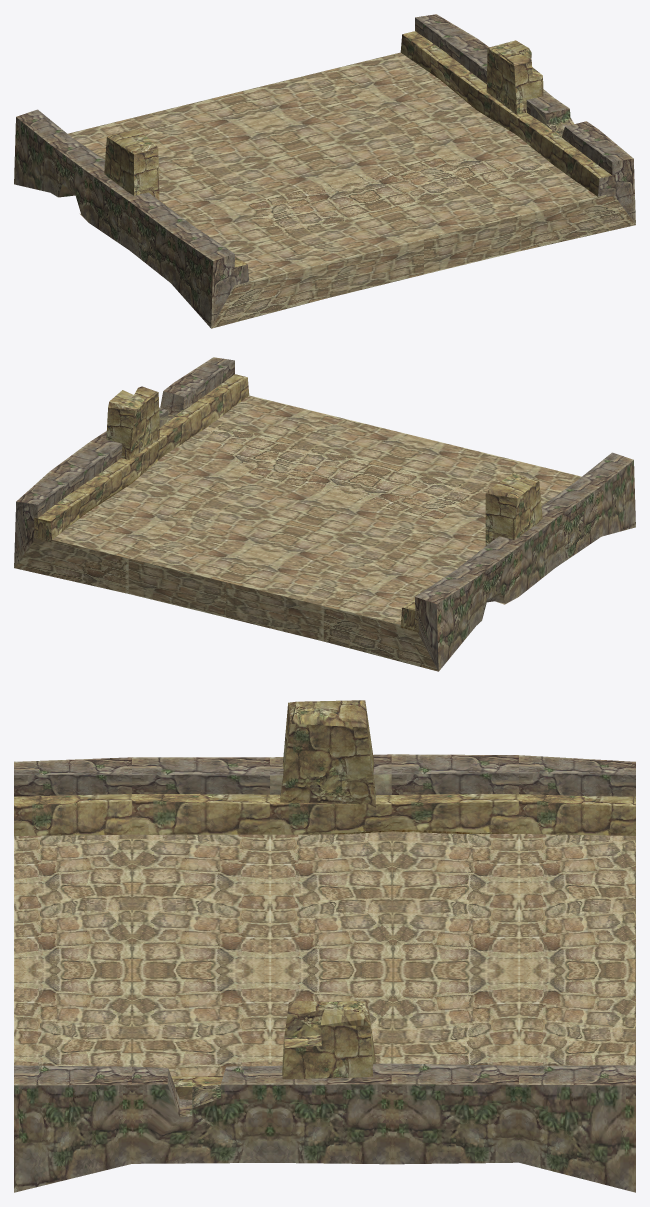
Rendered from C3SMBRIDGE_E26H.obj.
3 renders of one model, top to bottom at view 1: azimuth 30°, elevation 25°; view 2: azimuth 150°, elevation 25°; view 3: azimuth 270°, elevation 25°, orthographic. The views are drawn at different scales.
Parts seen in each view (by area): view 1: Node 0; view 2: Node 0; view 3: Node 0.
Part boxes in pixels (left/top/right/bottom): Node 0: left=14, top=14, right=635, bottom=328; Node 0: left=14, top=357, right=635, bottom=671; Node 0: left=14, top=700, right=635, bottom=1192.
Bounding box in the file's own units: 31.71 × 7.88 × 25.23.
Materials: 2 (2 with a texture image).
